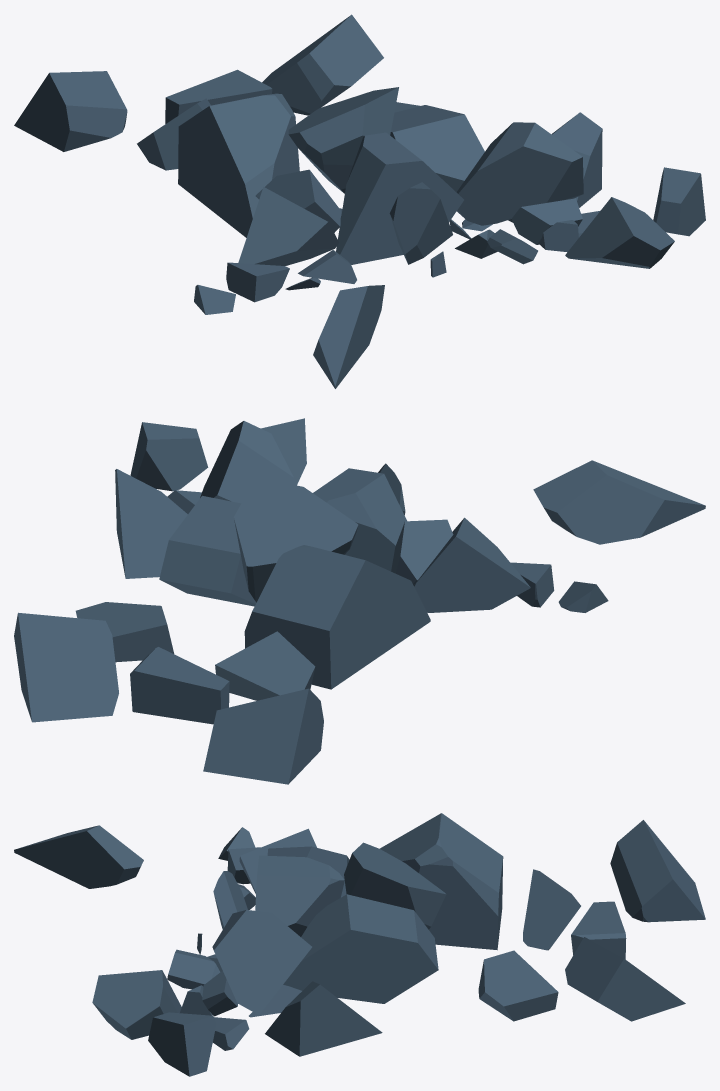
Rendered from RockGroup1.fbx.
The picture shows the model from 3 angles, top to bottom: view 1: azimuth 30°, elevation 25°; view 2: azimuth 150°, elevation 25°; view 3: azimuth 270°, elevation 25°; orthographic projection. The views are drawn at different scales.
Parts seen in each view (by area): view 1: StoneGroup1; view 2: StoneGroup1; view 3: StoneGroup1.
Part boxes in pixels (x1,y1,x2,y2): StoneGroup1: (14,14,705,388); StoneGroup1: (14,418,705,784); StoneGroup1: (14,813,705,1076).
Size of the model in its own units: 11419 by 2772 by 15134.
